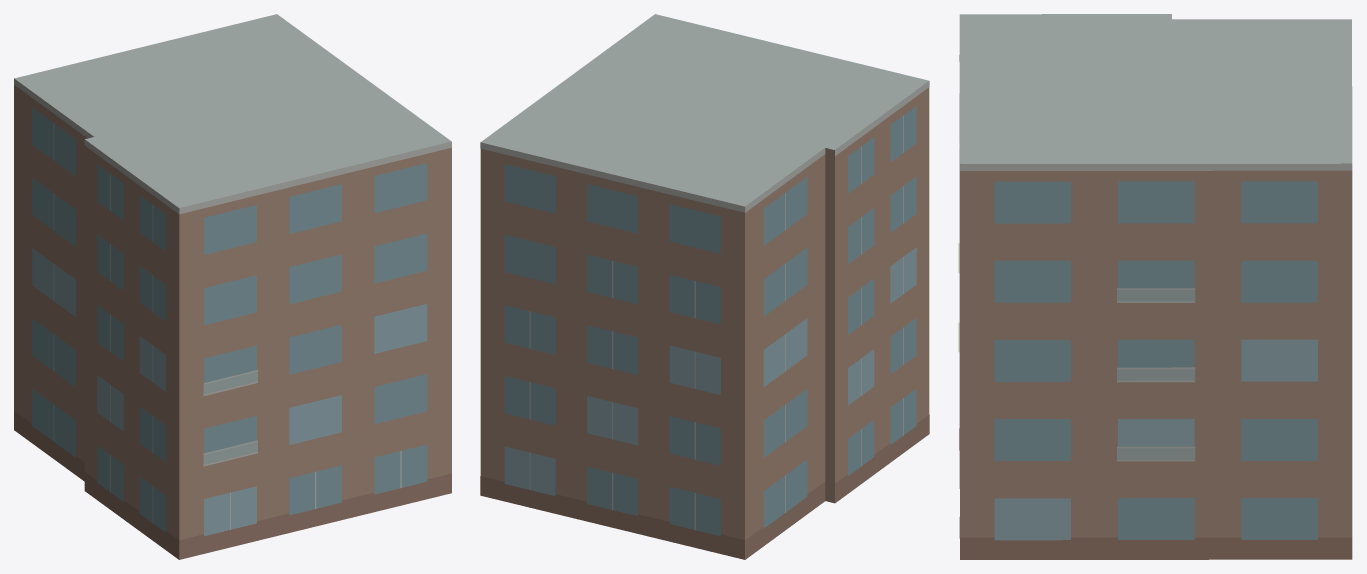
Rendered from survey-upis-33045768.glb.
3 views of the same model, side by side, from view 1: azimuth 30°, elevation 25°; view 2: azimuth 150°, elevation 25°; view 3: azimuth 270°, elevation 25° (orthographic). The views are drawn at different scales.
Parts seen in each view (by area): view 1: survey-upis-33045768.tmp; view 2: survey-upis-33045768.tmp; view 3: survey-upis-33045768.tmp.
Boxes of the visible parts, x1,y1,x2,y2 form: survey-upis-33045768.tmp: (14, 14, 451, 559); survey-upis-33045768.tmp: (480, 14, 929, 559); survey-upis-33045768.tmp: (958, 14, 1352, 559).
Bounding box in the file's own units: 11.34 × 13.9 × 12.55.
